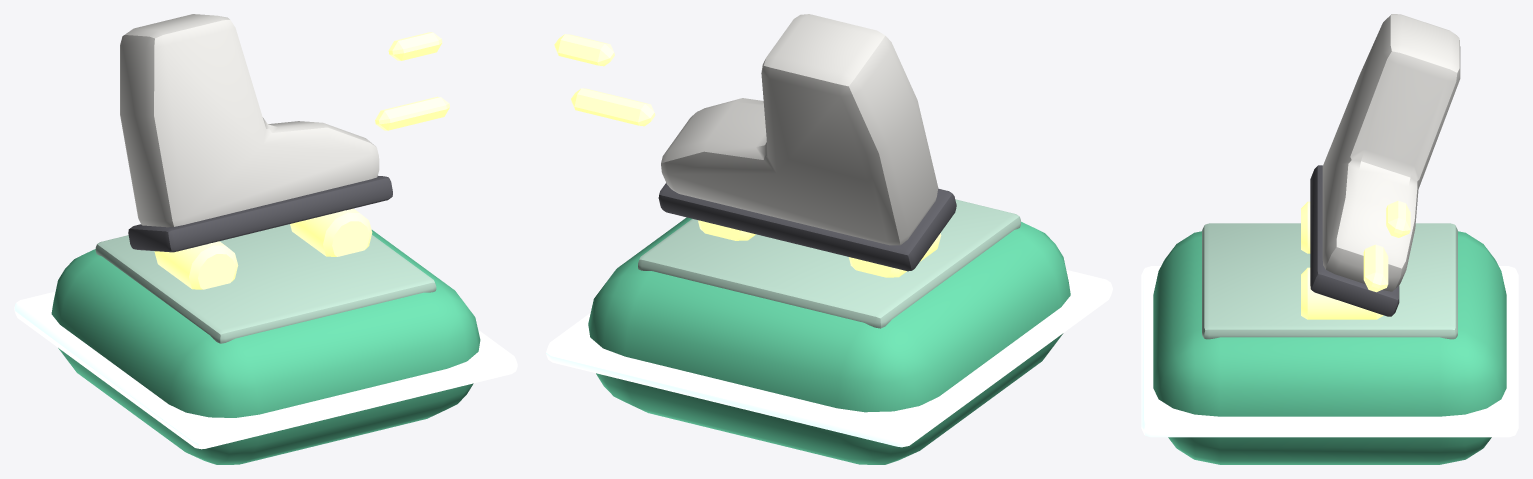
Rendered from pu_speed.glb.
3 renders of one model, left to right at view 1: azimuth 30°, elevation 25°; view 2: azimuth 150°, elevation 25°; view 3: azimuth 270°, elevation 25°, orthographic. The views are drawn at different scales.
Visible parts, largest first — view 1: pu_speed; view 2: pu_speed; view 3: pu_speed.
Boxes of the visible parts, x1,y1,x2,y2 form: pu_speed: [14, 14, 517, 464]; pu_speed: [546, 14, 1112, 464]; pu_speed: [1141, 14, 1518, 464].
Size of the model in its own units: 0.7082 by 0.6553 by 0.62.
